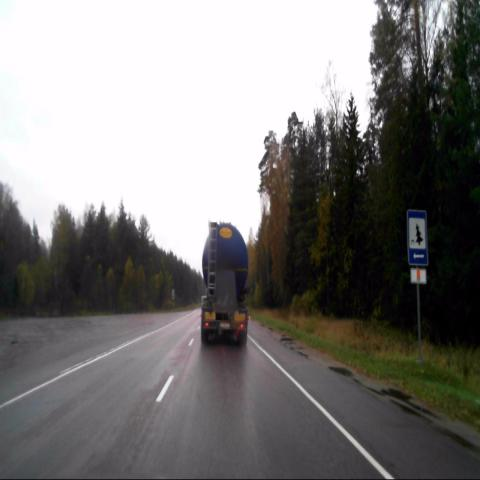7_11: (406, 207, 430, 266)
